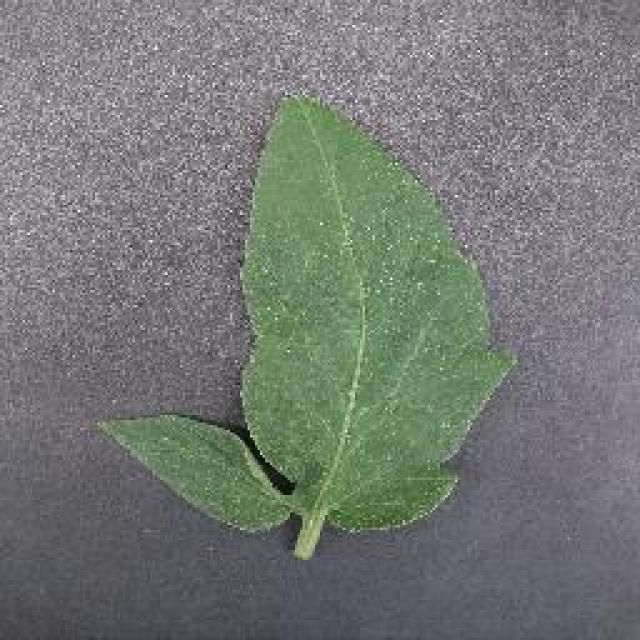Tomato healthy leaf: (117, 88, 515, 558)
